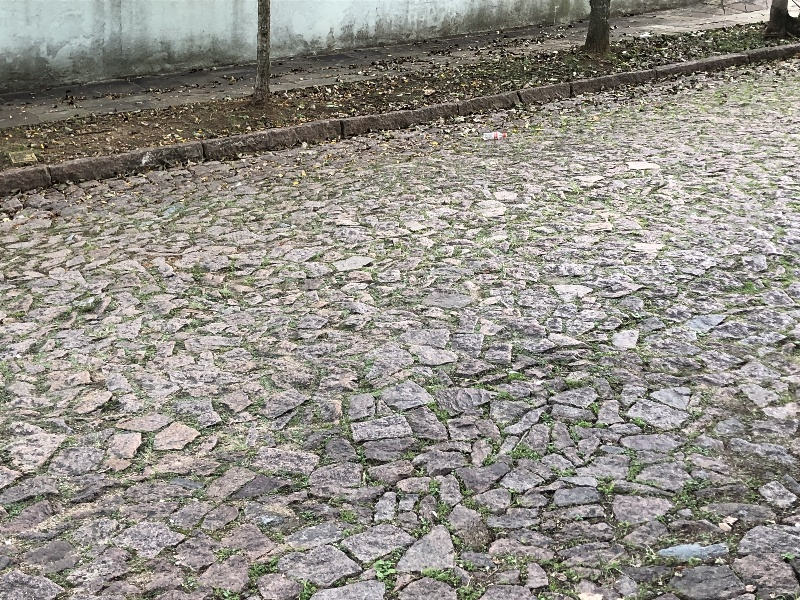v24: (3, 13, 788, 234)
